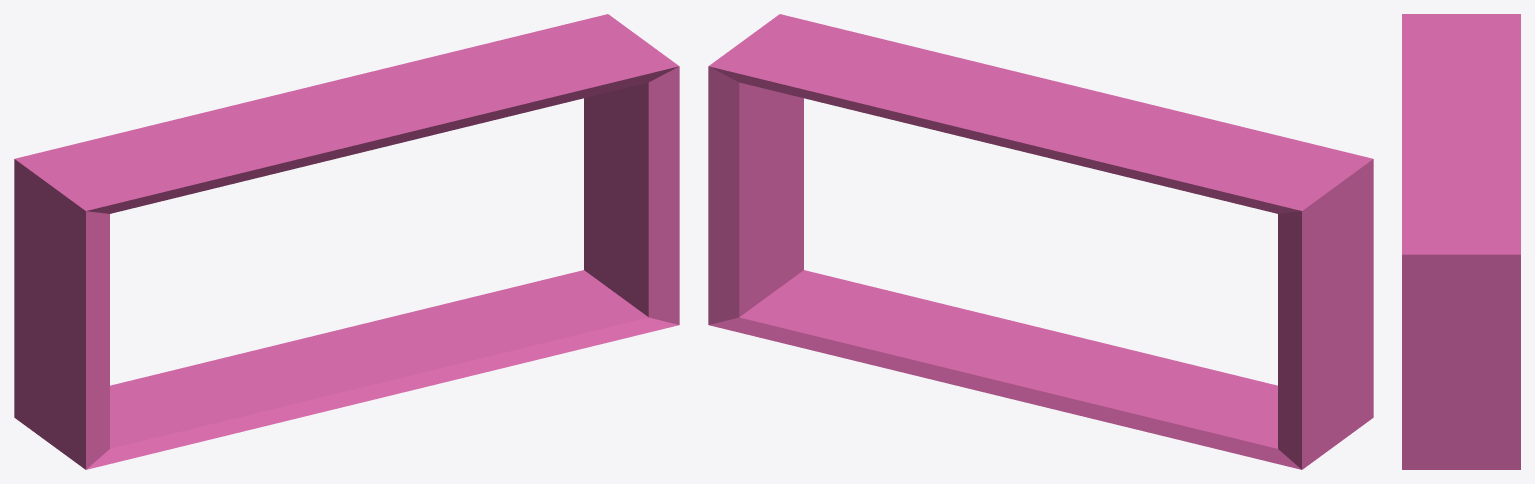
The model's file is HollowCube.glb.
3 renders of one model, left to right at view 1: azimuth 30°, elevation 25°; view 2: azimuth 150°, elevation 25°; view 3: azimuth 270°, elevation 25°, orthographic. The views are drawn at different scales.
Visible parts, largest first — view 1: Cube; view 2: Cube; view 3: Cube.
Boxes of the visible parts, x1,y1,x2,y2 form: Cube: [14, 14, 679, 469]; Cube: [708, 14, 1373, 469]; Cube: [1402, 14, 1520, 469].
Bounding box in the file's own units: 240 × 100 × 50.
